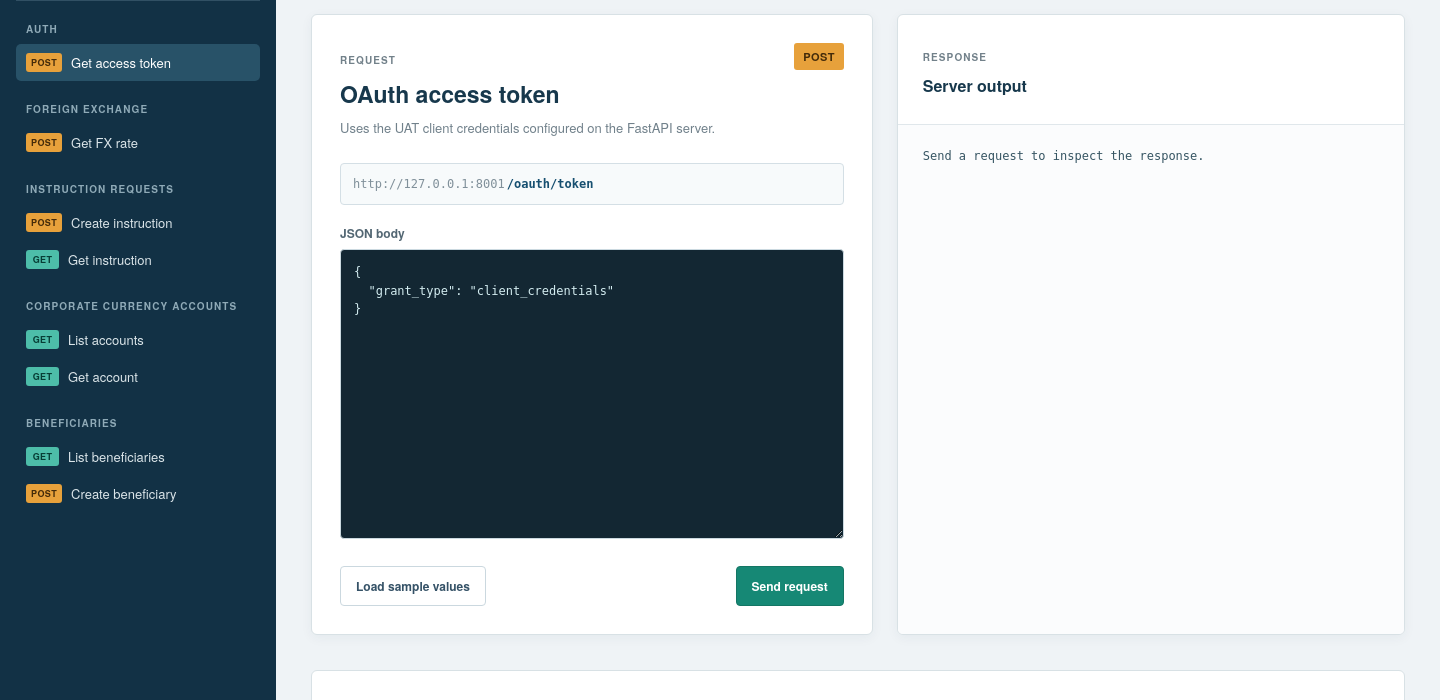
Scenario: App › refreshes sandbox data after creating a beneficiary
Step 1. Click the button "POST Create beneficiary" → [138, 494], box top-left (16, 475), bottom-right (260, 512)
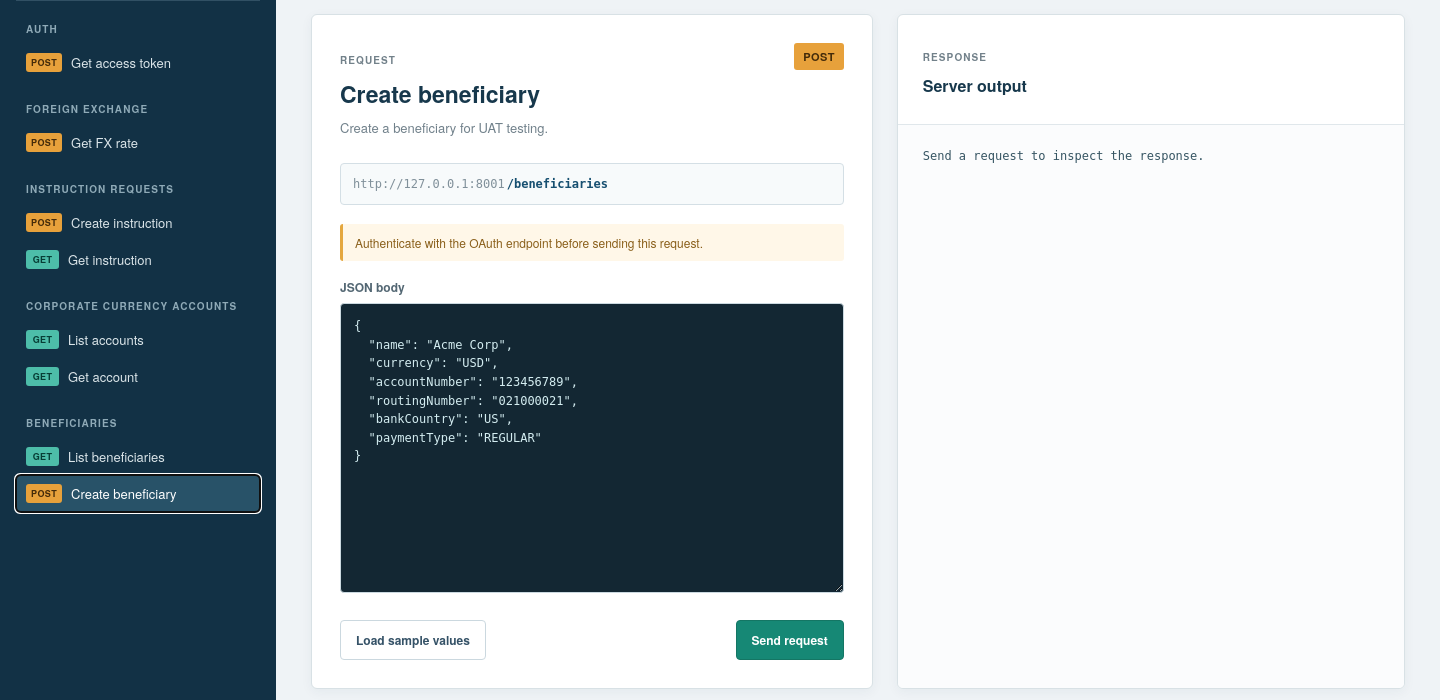
Step 2. Click the button "Send request" → [790, 640], box top-left (736, 620), bottom-right (844, 660)
(page scrolled)
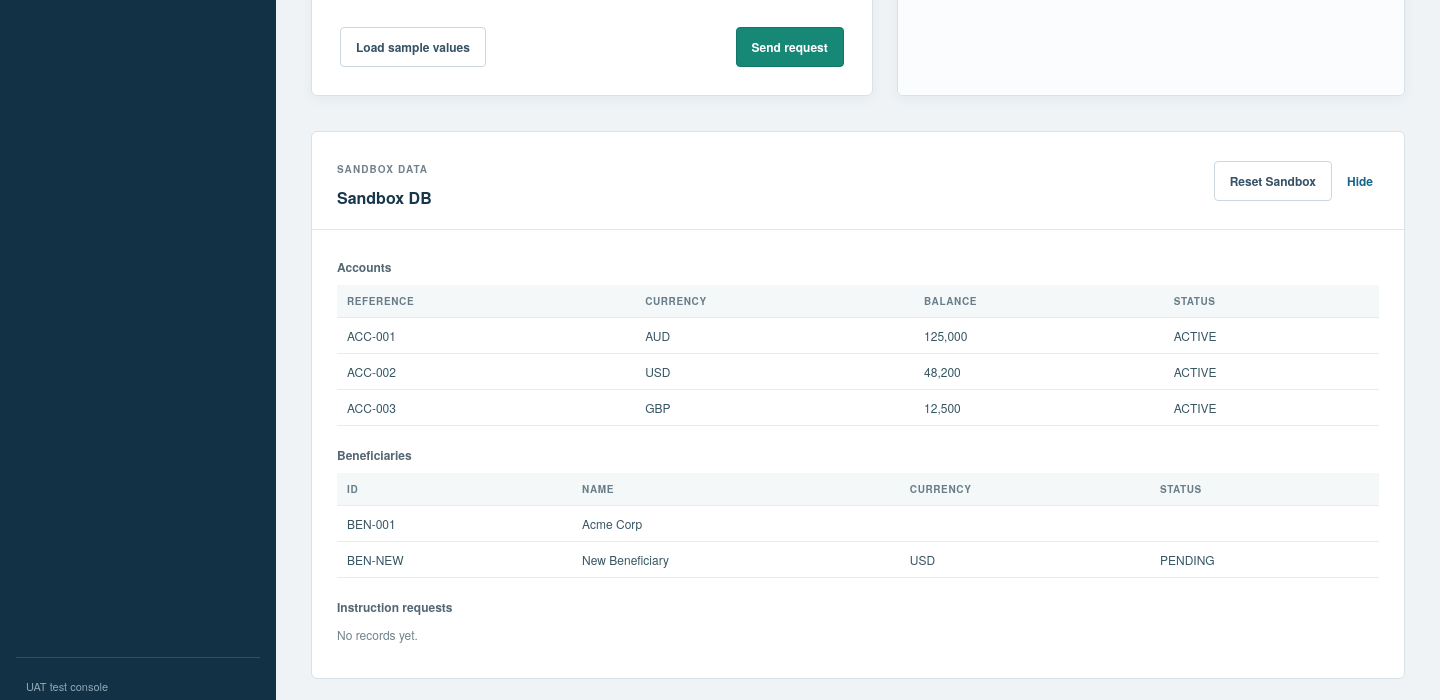
Check: the text "New Beneficiary" is shown, box top-left (572, 542), bottom-right (900, 578)
